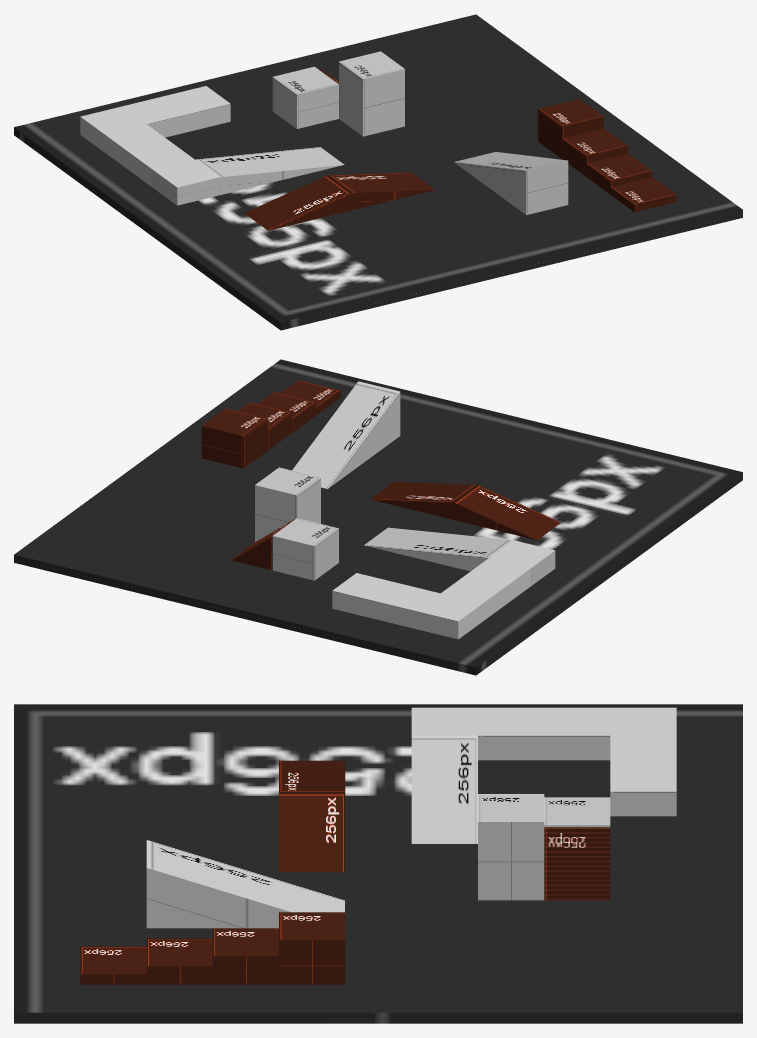
The model's file is betaMap.fbx.
3 renders of one model, top to bottom at view 1: azimuth 30°, elevation 25°; view 2: azimuth 150°, elevation 25°; view 3: azimuth 270°, elevation 25°, orthographic. The views are drawn at different scales.
Parts seen in each view (by area): view 1: Cube; view 2: Cube; view 3: Cube.
Part boxes in pixels (<box>): Cube: <box>14,14,742,330</box>; Cube: <box>14,359,742,675</box>; Cube: <box>14,704,742,1023</box>.
Bounding box in the file's own units: 22 × 2.98 × 22.
Materials: 3 (3 with a texture image).
